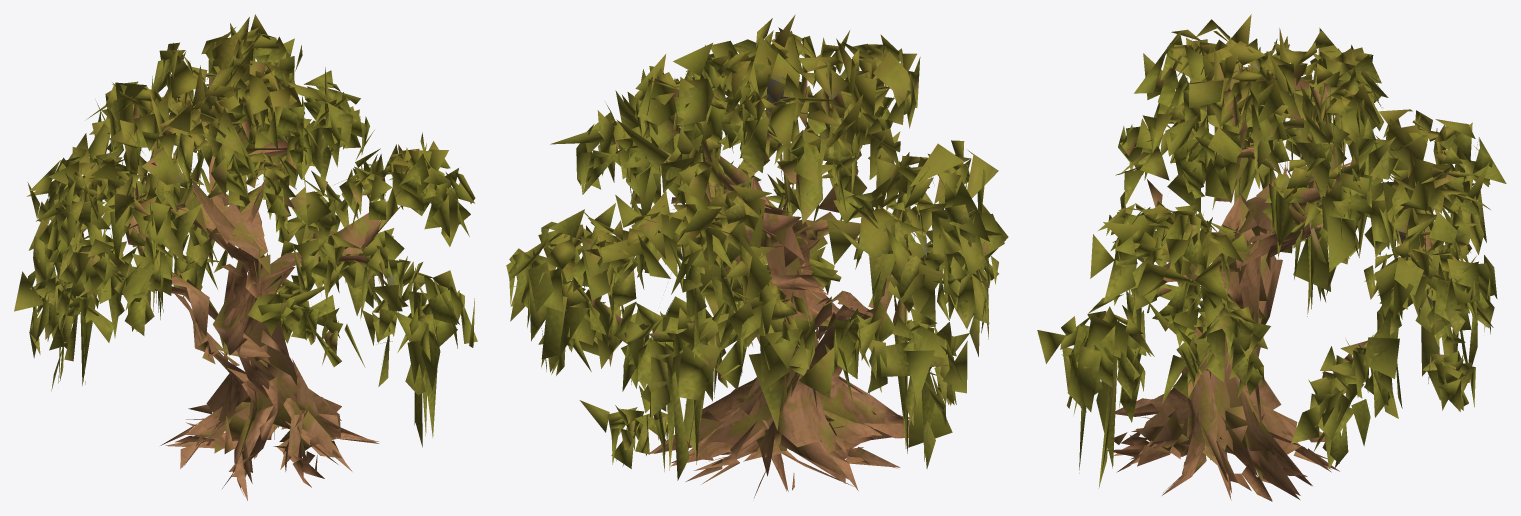
File: willow-forest.glb
3 views of the same model, side by side, from view 1: azimuth 30°, elevation 25°; view 2: azimuth 150°, elevation 25°; view 3: azimuth 270°, elevation 25° (orthographic). The views are drawn at different scales.
Visible parts, largest first — view 1: willow-forest_LOD0; view 2: willow-forest_LOD0; view 3: willow-forest_LOD0.
Boxes of the visible parts, left/top/right/bottom form: willow-forest_LOD0: left=14, top=14, right=477, bottom=500; willow-forest_LOD0: left=506, top=14, right=1008, bottom=497; willow-forest_LOD0: left=1037, top=14, right=1506, bottom=501.
Size of what is drawn, in the model's own units: 1.06 by 1.03 by 1.04.
Materials: 1 (1 with a texture image).
